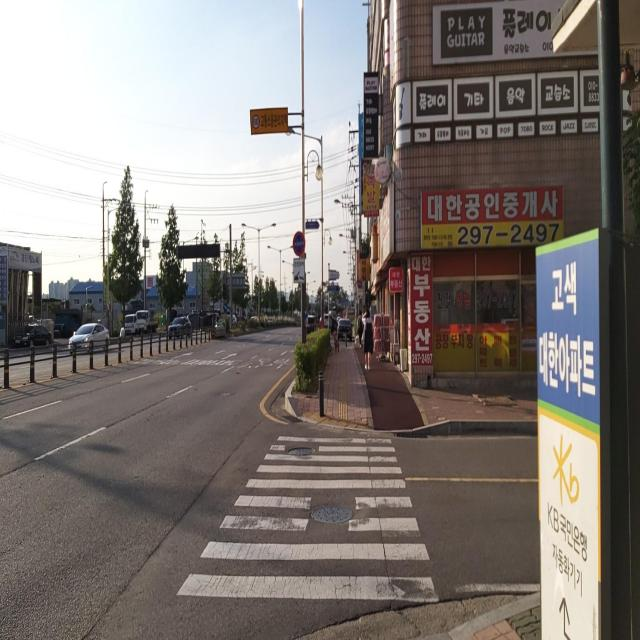횡단보도: (175, 431, 441, 606)
